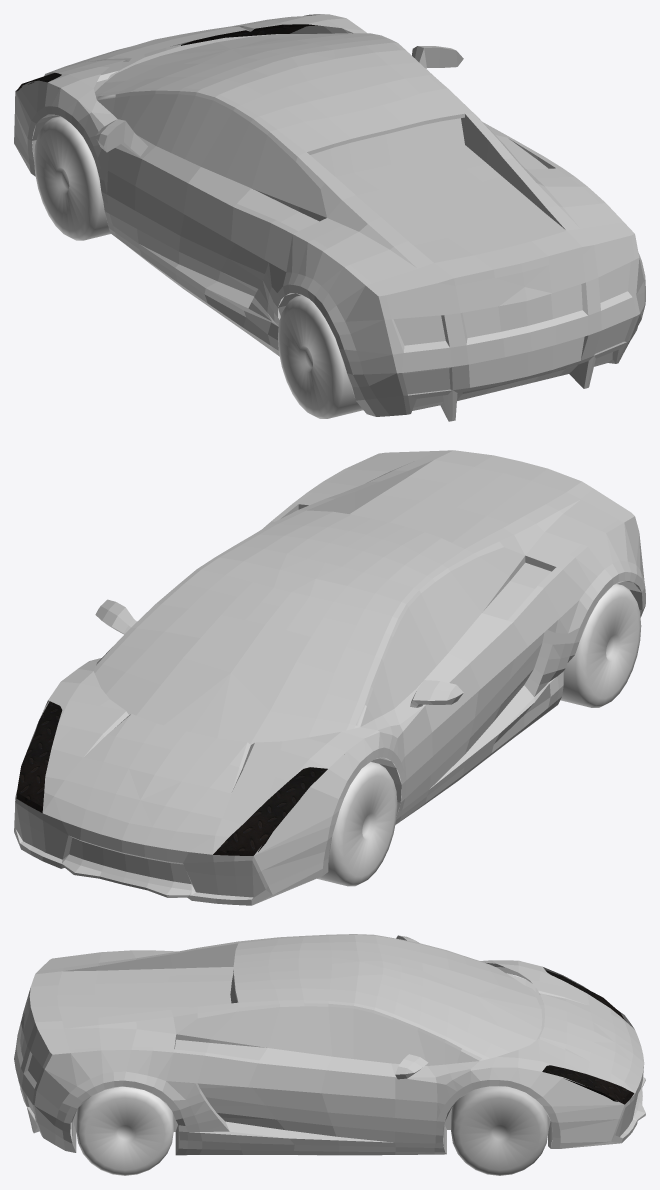
Rendered from gallardo1.FBX.
The picture shows the model from 3 angles, top to bottom: view 1: azimuth 30°, elevation 25°; view 2: azimuth 150°, elevation 25°; view 3: azimuth 270°, elevation 25°; orthographic projection. The views are drawn at different scales.
Visible parts, largest first — view 1: Gellardo Body, Gellardo Wheel (×2), Box001; view 2: Gellardo Body, Gellardo Wheel (×2), Box001; view 3: Gellardo Body, Gellardo Wheel (×2), Box001.
Part boxes in pixels (x1,y1,x2,y2): Gellardo Body: (14,14,645,421); Gellardo Wheel (×2): (34,116,363,418); Box001: (16,15,317,91); Gellardo Body: (14,450,645,905); Gellardo Wheel (×2): (317,584,641,886); Box001: (16,701,327,855); Gellardo Body: (14,934,645,1155); Gellardo Wheel (×2): (76,1086,548,1175); Box001: (542,970,634,1104).
Bounding box in the file's own units: 130 × 70.53 × 258.
